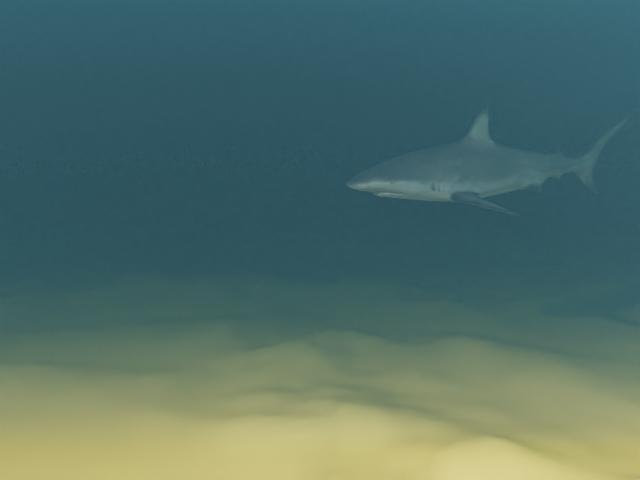Carribean Shark.001: (346, 106, 640, 215)
